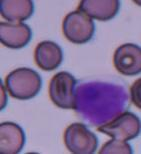L: (72, 76, 131, 126)
